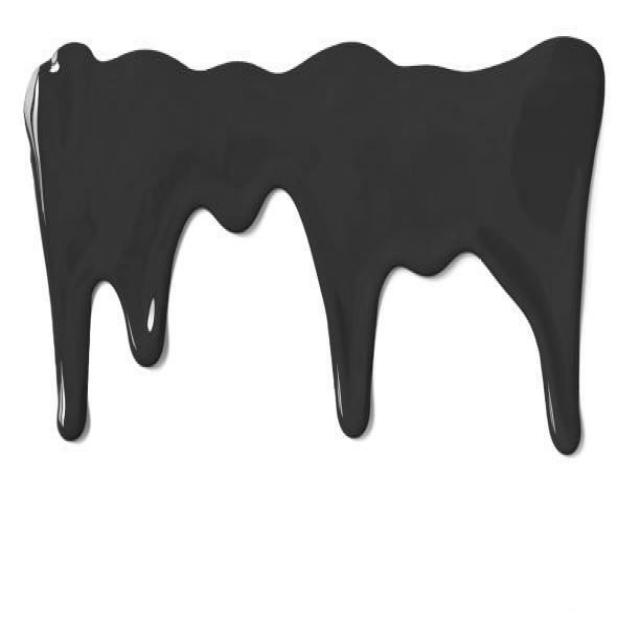paint drips: (27, 143, 597, 469)
